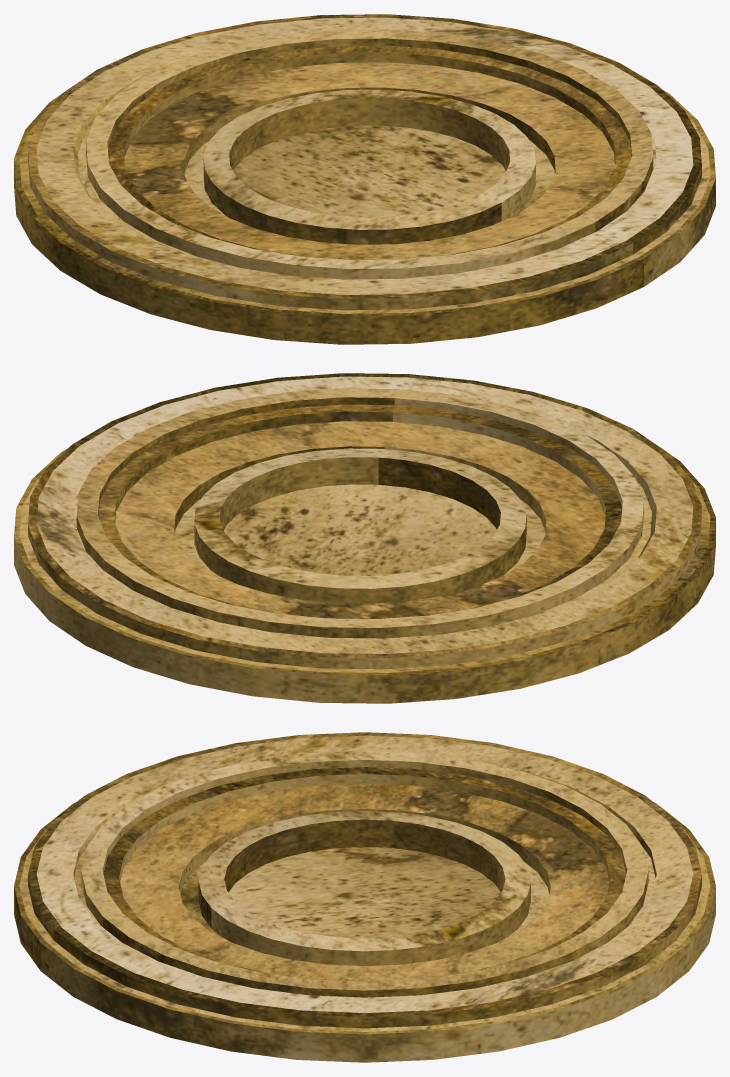
File: pressure plate gold.fbx
3 renders of one model, top to bottom at view 1: azimuth 30°, elevation 25°; view 2: azimuth 150°, elevation 25°; view 3: azimuth 270°, elevation 25°, orthographic.
Parts seen in each view (by area): view 1: Cylinder.001; view 2: Cylinder.001; view 3: Cylinder.001.
Part boxes in pixels (x1,y1,x2,y2): Cylinder.001: (14, 14, 715, 344); Cylinder.001: (14, 373, 715, 703); Cylinder.001: (14, 732, 715, 1062).
Size of the model in its own units: 1279 by 92.46 by 1279.
1 material, 1 textured.
